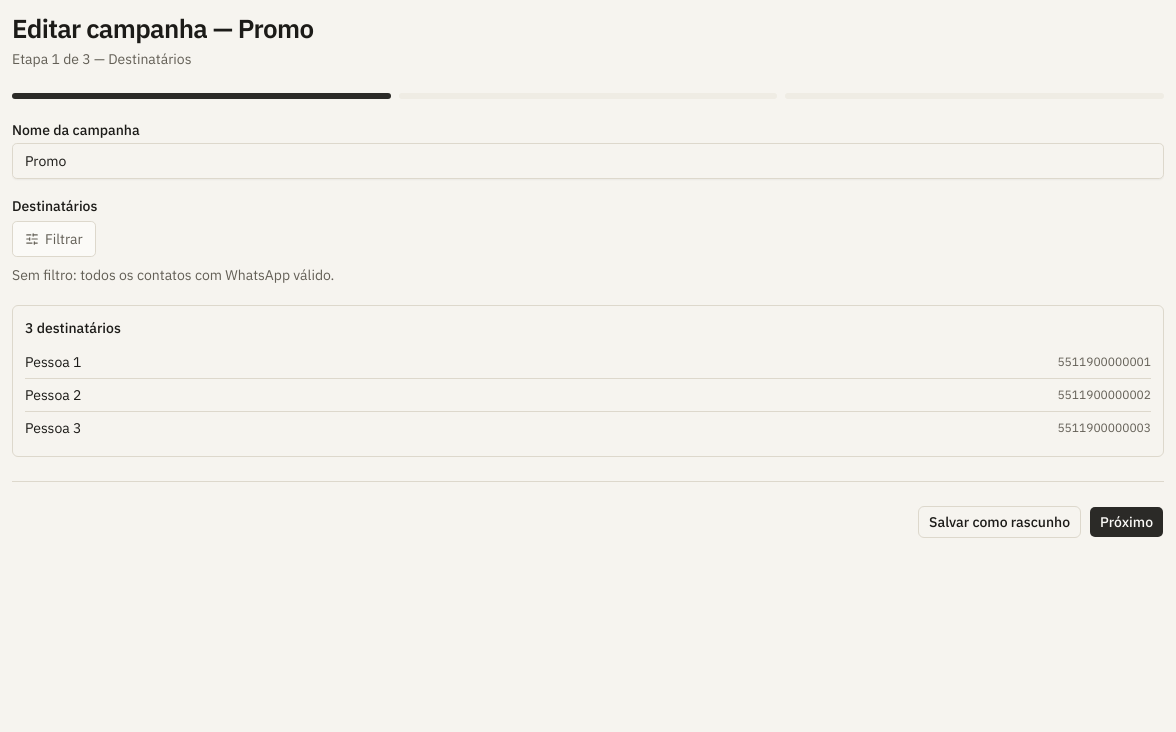
Scenario: B54-05 — variáveis, arquivo e prévia do template na campanha › CA-B54-19: should mostrar a prévia com [Nome do contato] e o texto fixo Ana, com cabeçalho, rodapé e botões
Expected: the text "3 destinatários" is shown, [25,318,121,338]
Step 1. Click the button "Próximo" → [1126, 522], box [1089,506,1164,538]
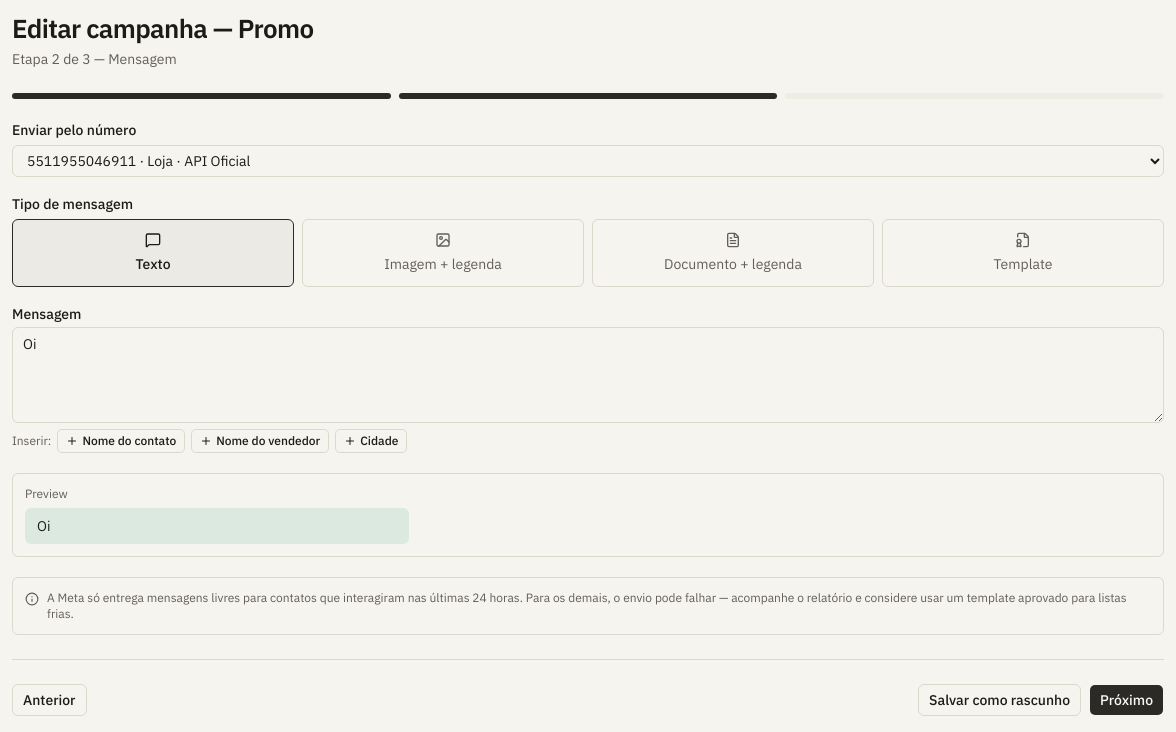
Expected: the text "Tipo de mensagem" is shown, [12,194,133,212]
Step 2. Click the button "Template" → [1023, 252], box [882,218,1164,286]
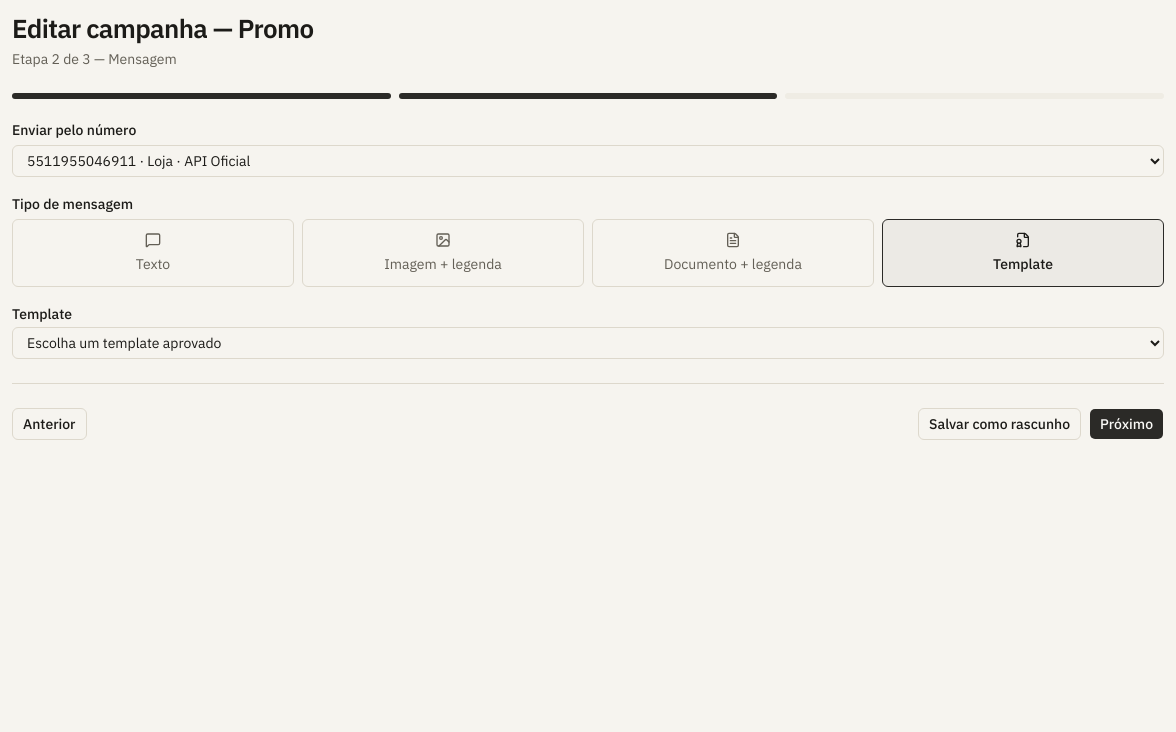
Step 3. Select "vendedor_da_loja · pt_BR" in the dropdown labelled "Template" → [588, 342], box [12,326,1164,358]
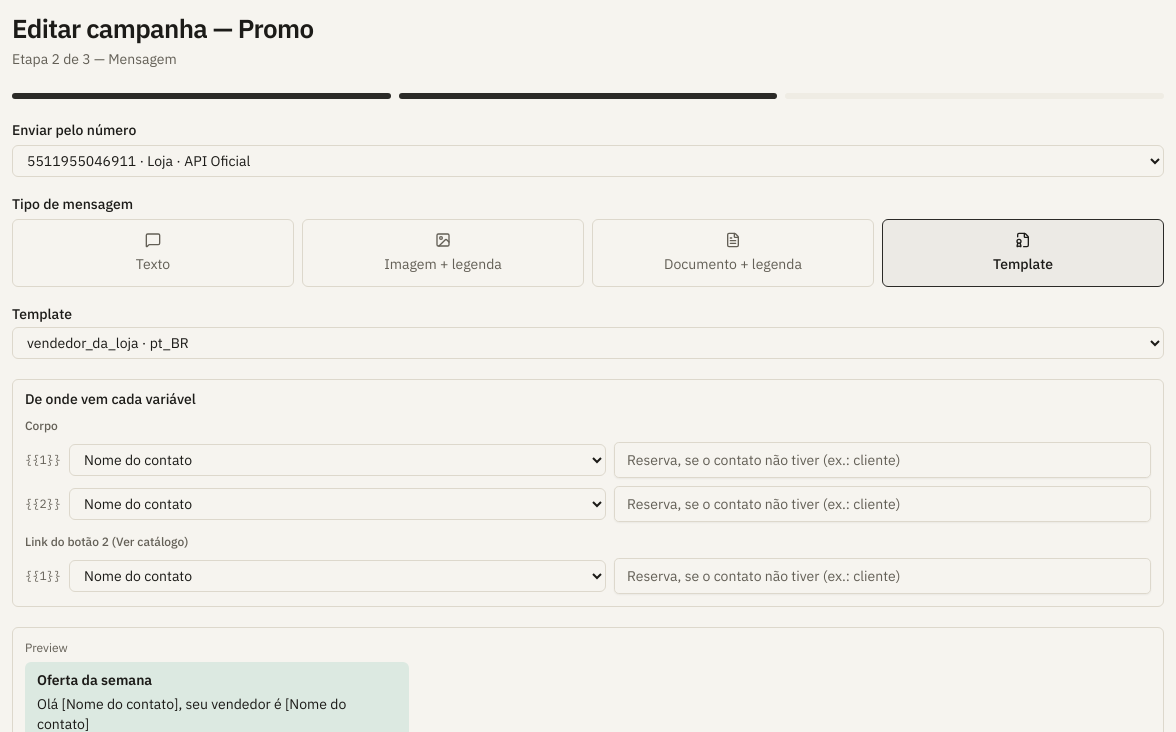
Step 4. Select "Texto fixo" in the dropdown named "Origem da variável {{2}}" → [338, 504], box [69,488,606,520]
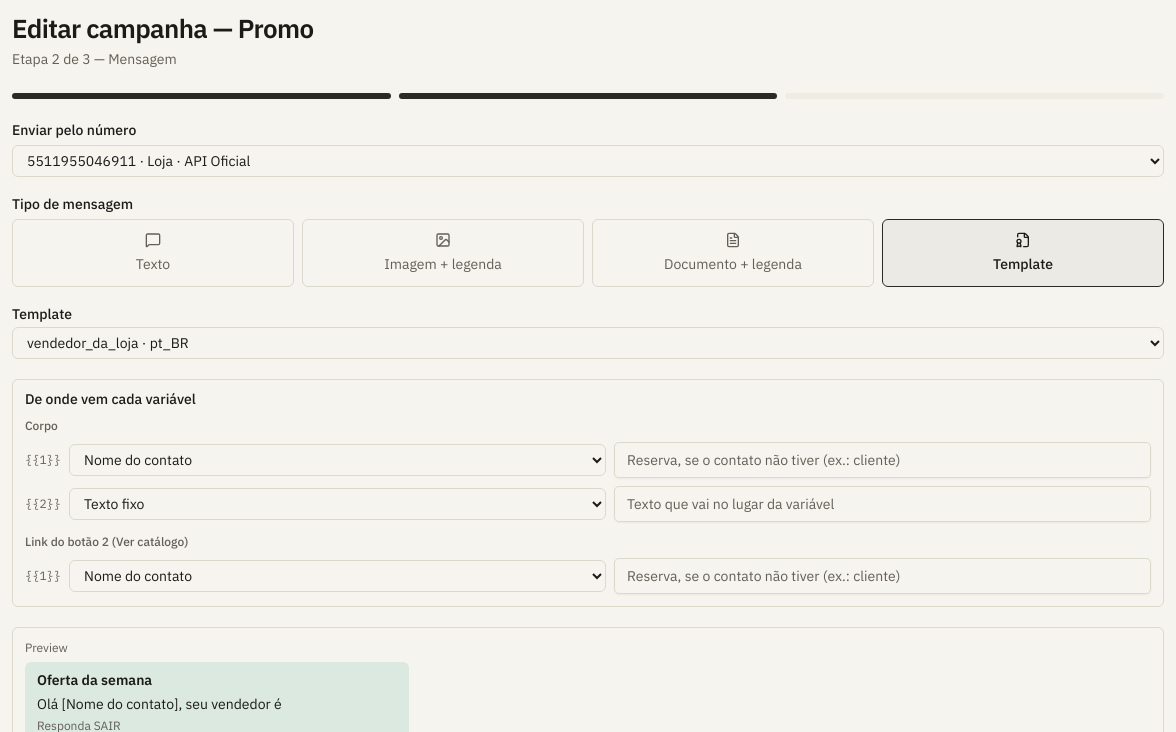
Step 5. Type "Ana" into the field named "Texto fixo da variável {{2}}" → [882, 504], box [614,486,1151,522]
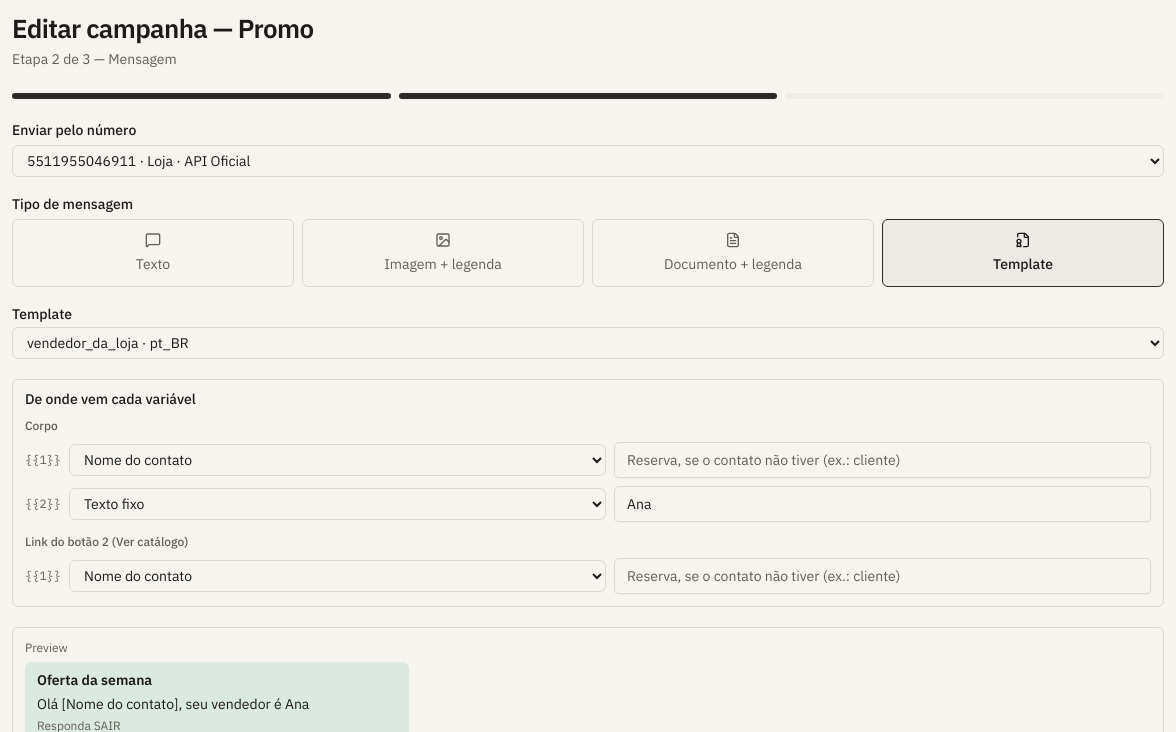
Expected: the text with test id "previa-cabecalho" reads "Oferta da semana", [37,670,152,688]
Expected: the text with test id "previa-rodape" reads "Responda SAIR", [37,718,121,731]
Expected: the text with test id "previa-corpo" reads "Olá [Nome do contato], seu vendedor é Ana", [37,694,309,712]
Step 6. Select "Cidade" in the dropdown named "Origem da variável {{1}}" → [338, 460], box [69,444,606,476]
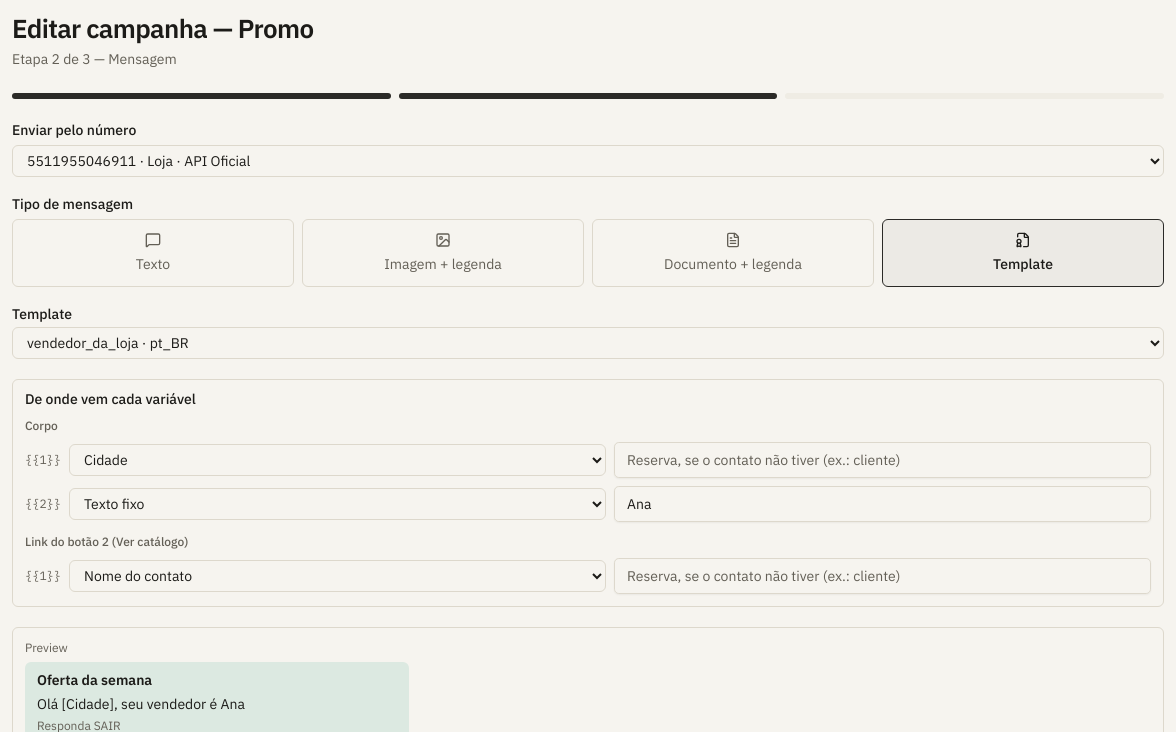
Expected: the text with test id "previa-corpo" reads "Olá [Cidade], seu vendedor é Ana", [37,694,245,712]
